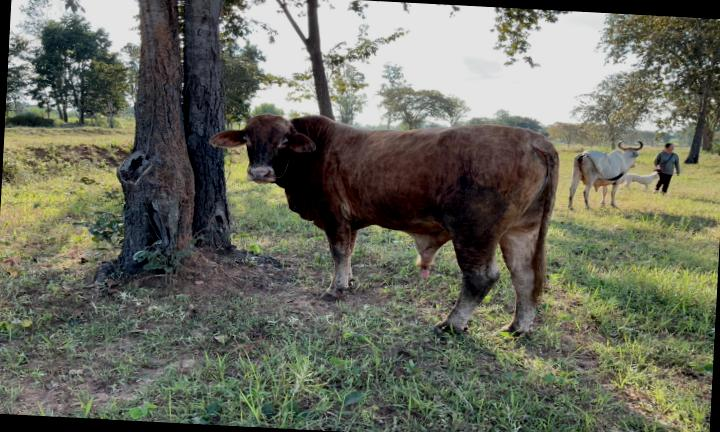Charolais: (210, 114, 558, 332)
